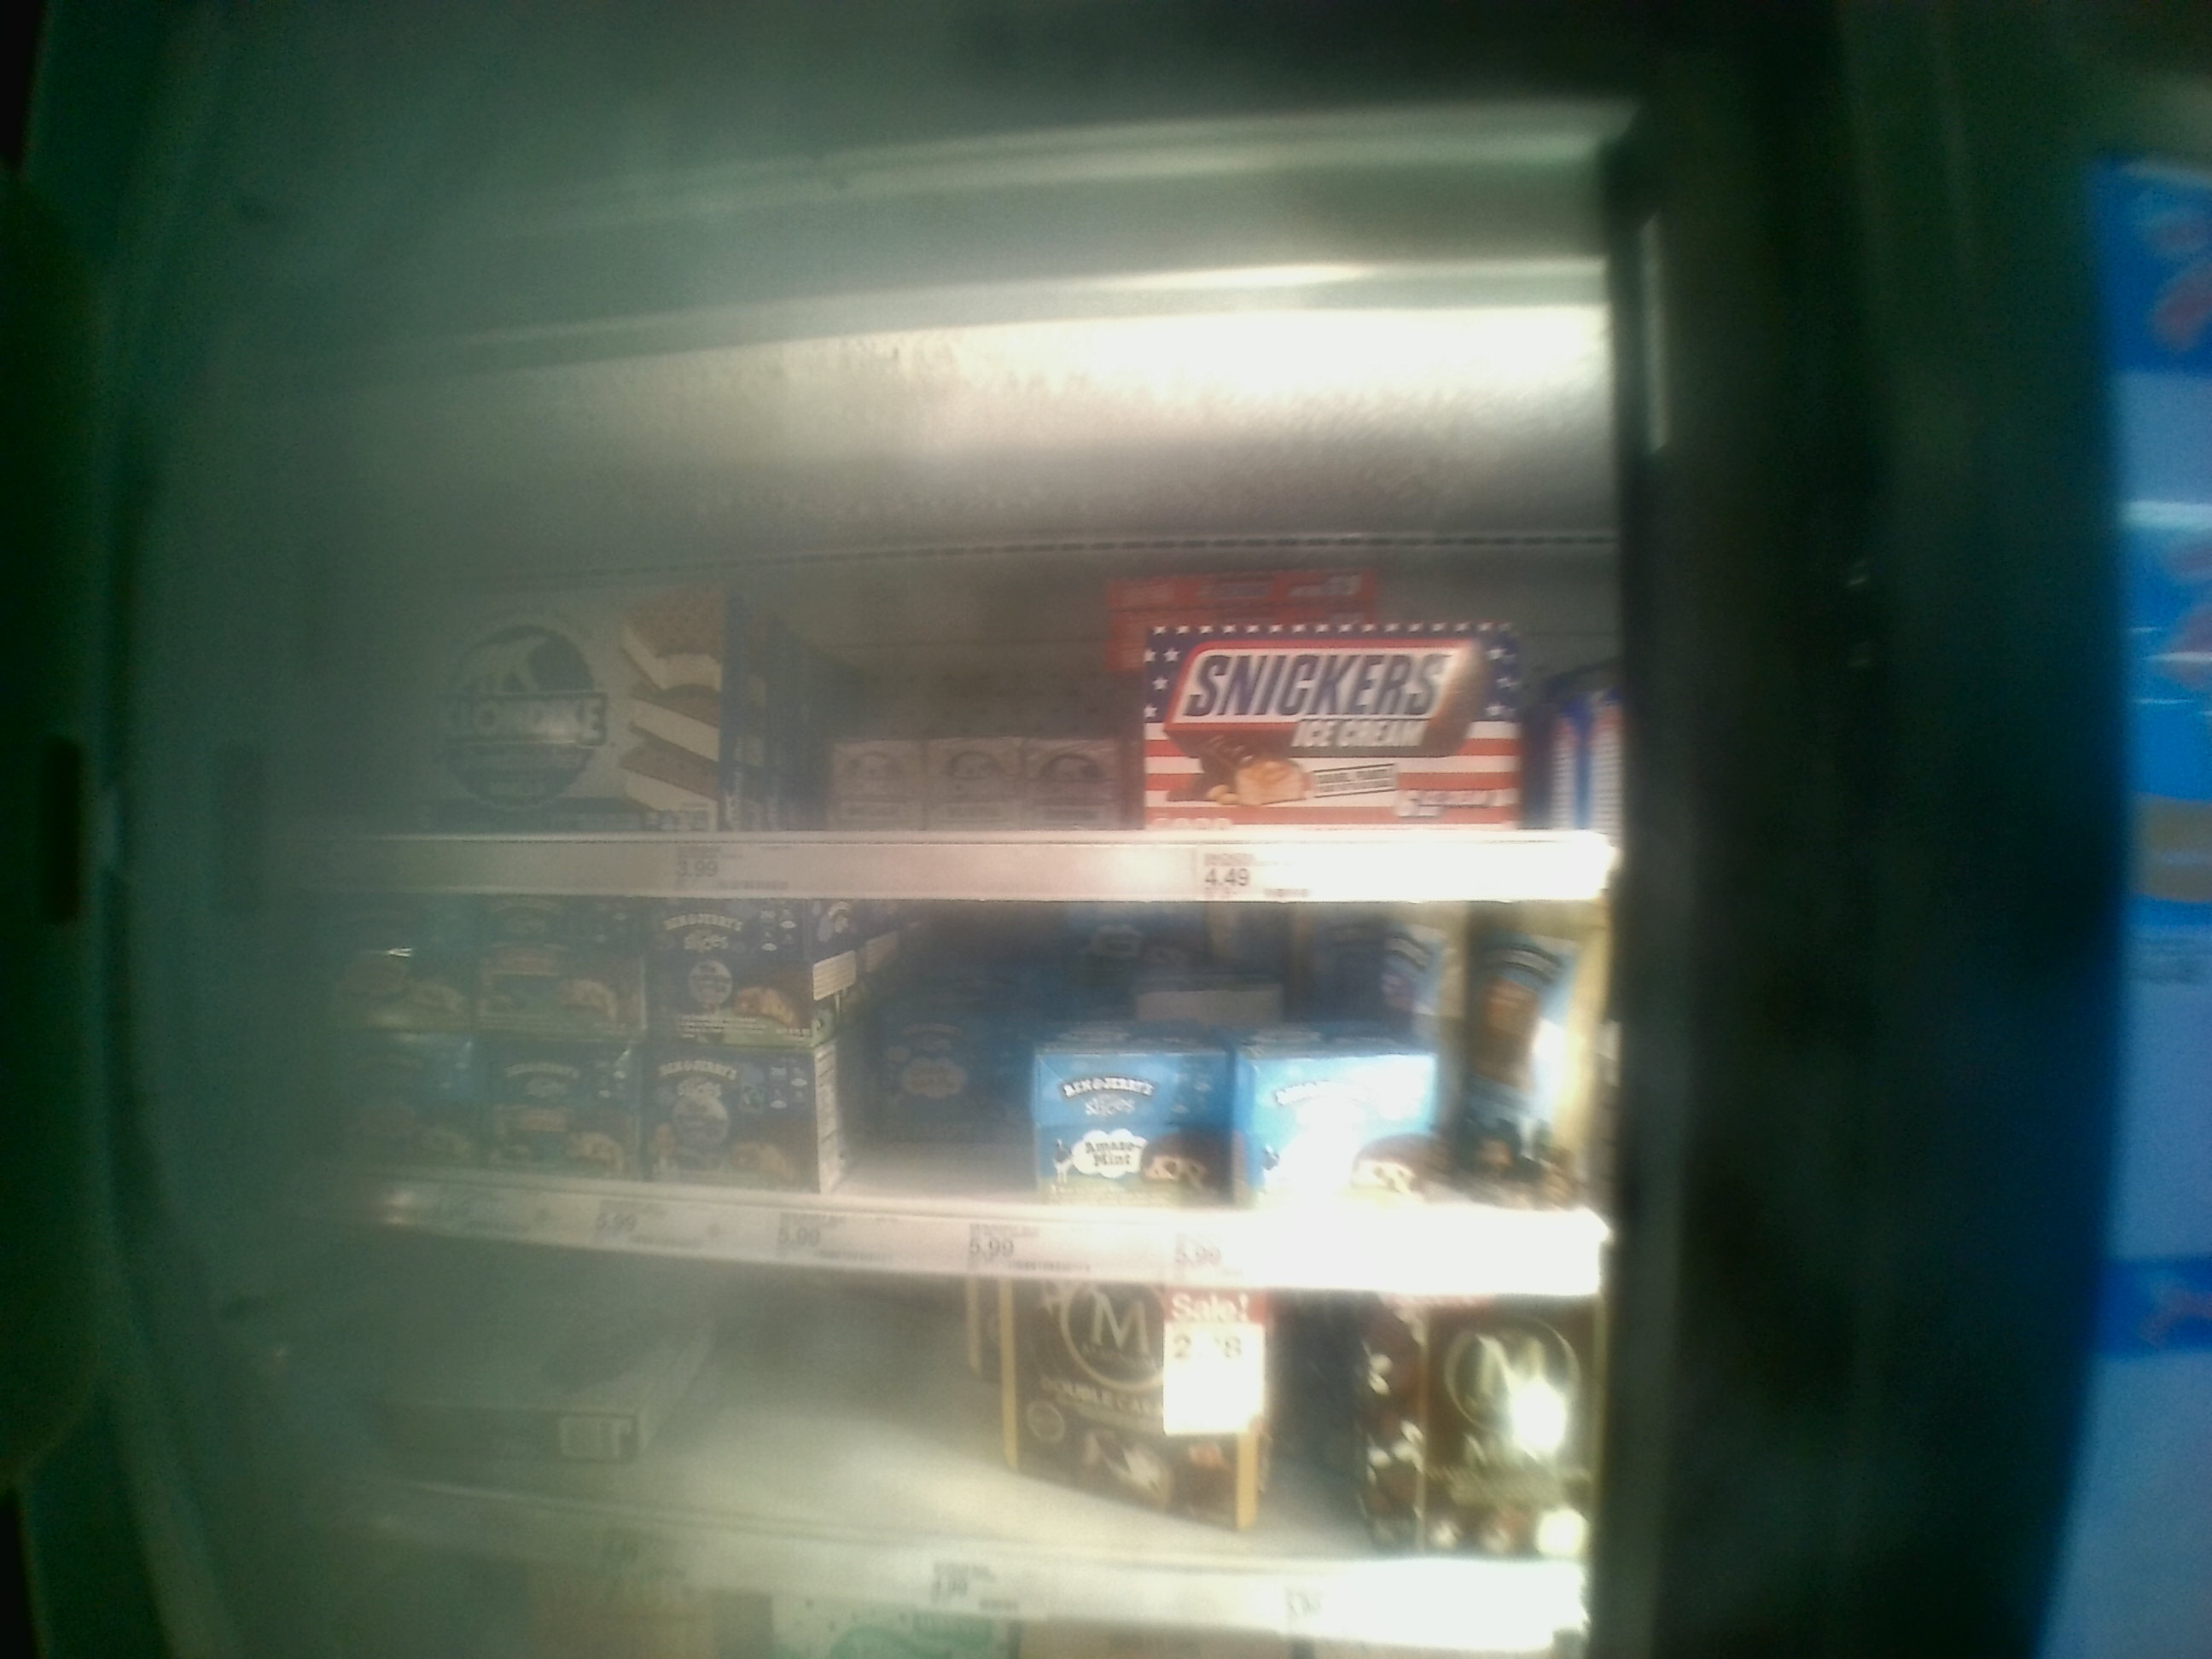shelf: (280, 465, 1655, 899), (280, 897, 1609, 1298)
